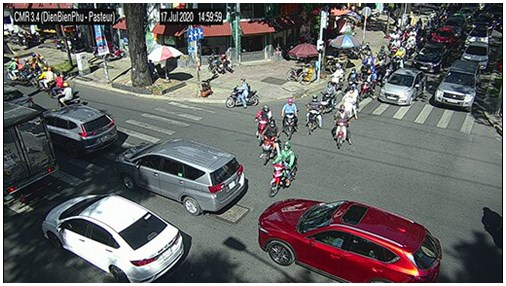xe_hoi: (257, 197, 443, 284), (41, 192, 184, 282), (114, 138, 247, 216), (39, 103, 118, 153), (434, 58, 481, 112), (379, 68, 427, 107), (413, 41, 448, 74), (460, 41, 490, 70), (430, 28, 456, 47), (466, 26, 489, 47), (444, 15, 464, 37), (458, 7, 474, 21)
xe_may: (269, 142, 297, 198), (223, 77, 259, 109), (259, 119, 282, 167), (332, 104, 352, 149), (280, 98, 300, 141), (304, 93, 324, 136), (340, 82, 359, 121), (57, 83, 83, 108), (359, 67, 377, 102), (255, 104, 272, 137), (321, 80, 337, 114), (47, 71, 64, 99), (18, 59, 37, 84), (38, 66, 56, 92), (6, 57, 23, 83), (389, 44, 406, 69), (330, 64, 345, 92), (346, 67, 359, 93), (363, 51, 376, 76)
xe_tai: (4, 100, 58, 208)
